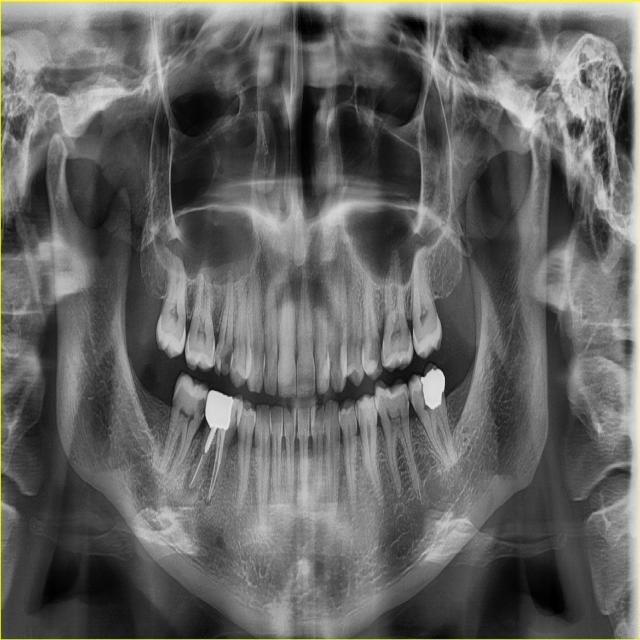Caries: (370, 331, 383, 371), (217, 340, 232, 373), (197, 397, 206, 418), (403, 389, 409, 412), (231, 352, 238, 371), (264, 359, 269, 380), (210, 333, 215, 352), (412, 332, 417, 349), (408, 333, 413, 348), (409, 389, 414, 404)
Filling: (420, 368, 445, 410), (320, 352, 330, 386)
Periapical lesion: (182, 450, 208, 500)
Root Canal Treatment: (212, 433, 224, 488), (208, 435, 216, 494), (190, 453, 204, 486)
